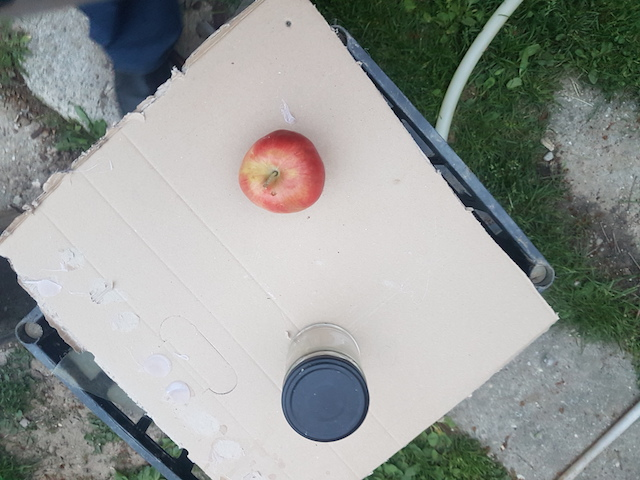apple: (239, 127, 324, 214)
recipient: (284, 358, 371, 444)
